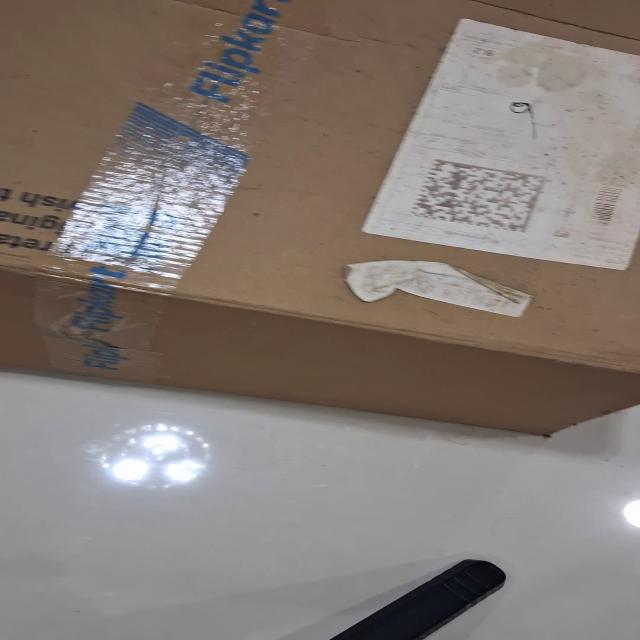paper: (360, 18, 639, 270), (342, 259, 534, 318)
